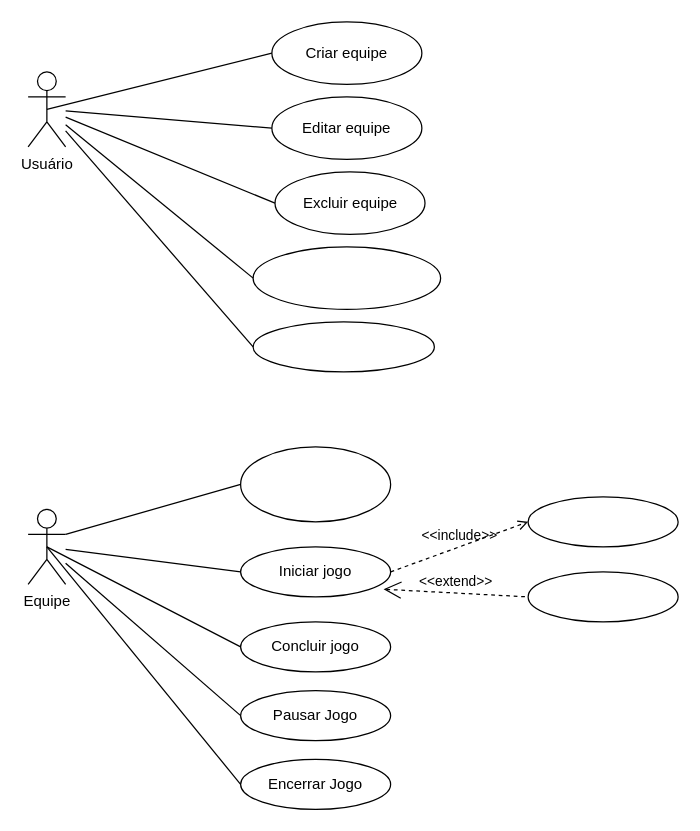
This 700x831 diagram has some shape labels left out. The shapes that lost their labels are listed below. From the top down, each one's box as (x1, y1, x2, y2) in pixels, then its label:
(252, 246, 441, 309): Ver histórico de jogos
(252, 321, 434, 372): Ver pontuação
(239, 446, 391, 522): Escolher porta-caminho
(527, 496, 678, 547): Decifrar enigmas
(527, 571, 678, 622): Ver regras
